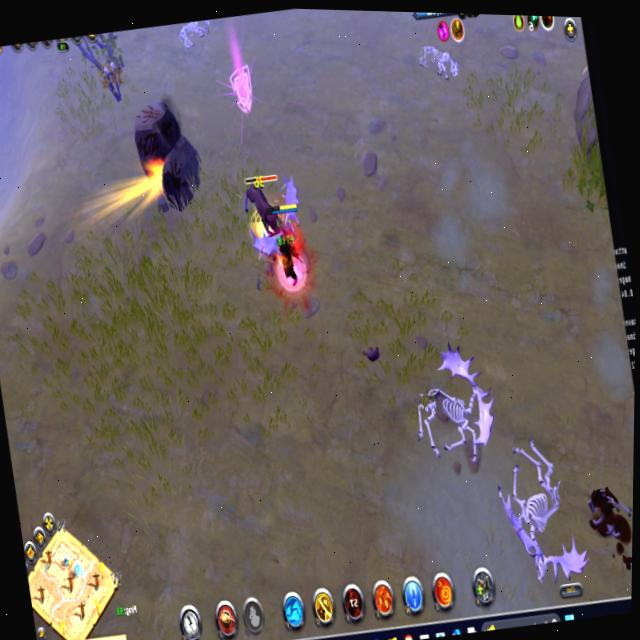hide: (93, 48, 133, 110)
ore: (237, 166, 291, 248)
red: (265, 199, 313, 290)
